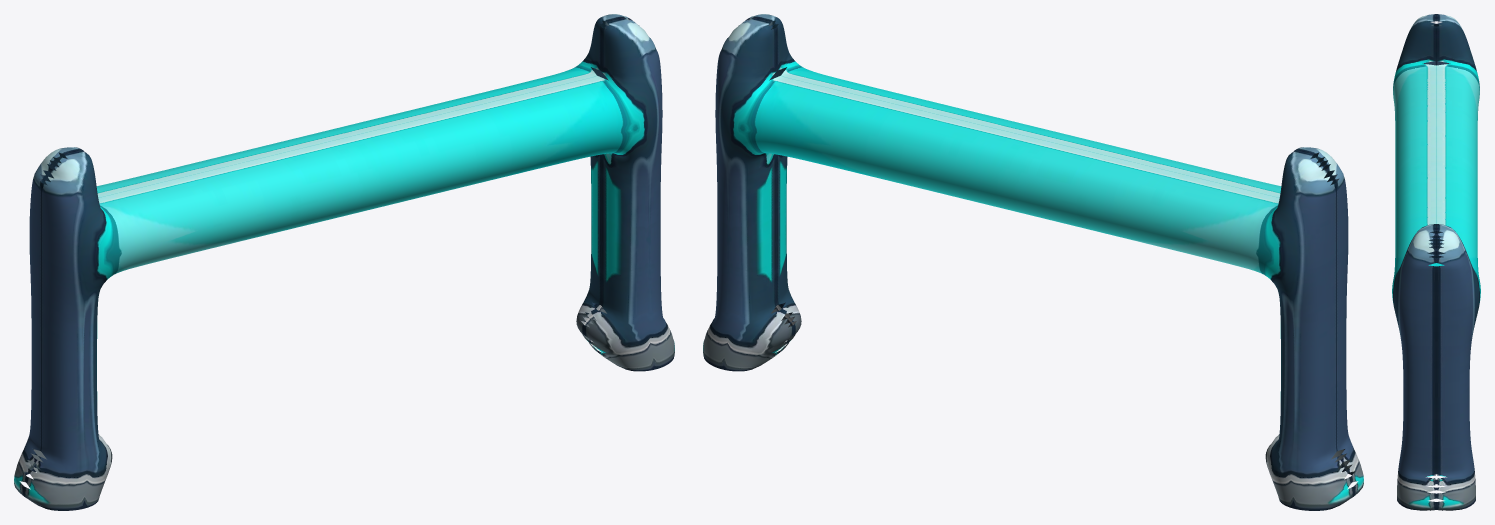
The model's file is cyan_guardrail.glb.
3 views of the same model, side by side, from view 1: azimuth 30°, elevation 25°; view 2: azimuth 150°, elevation 25°; view 3: azimuth 270°, elevation 25° (orthographic). The views are drawn at different scales.
Parts seen in each view (by area): view 1: cyan_guardrail; view 2: cyan_guardrail; view 3: cyan_guardrail.
Part boxes in pixels (bbox=[...]): cyan_guardrail: bbox=[14, 14, 674, 510]; cyan_guardrail: bbox=[703, 14, 1363, 510]; cyan_guardrail: bbox=[1392, 14, 1480, 510].
Bounding box in the file's own units: 0.989 × 0.4944 × 0.1495.
1 material, 1 textured.
